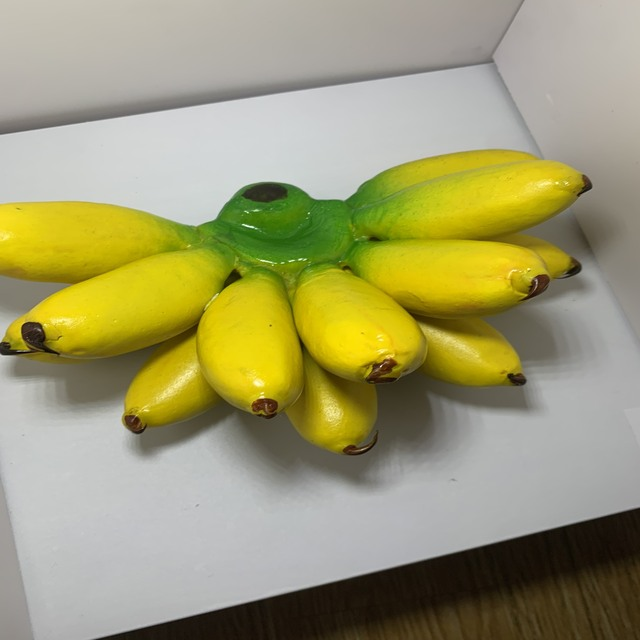Chuoi: (0, 143, 593, 458)
